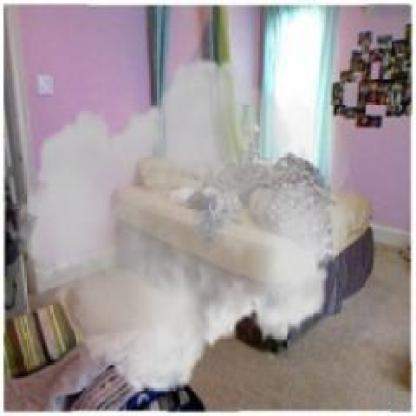Smoke: (7, 44, 357, 407)
